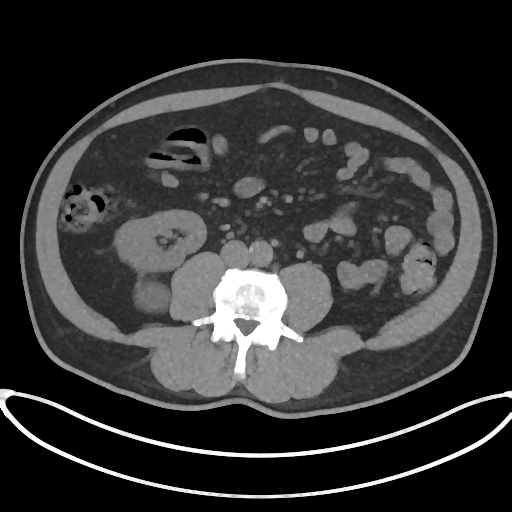Lesion: (133, 282, 172, 316)
